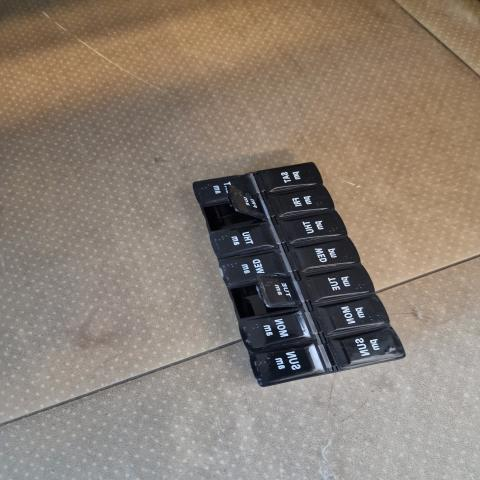Open: (228, 276, 299, 319), (200, 201, 267, 231)
